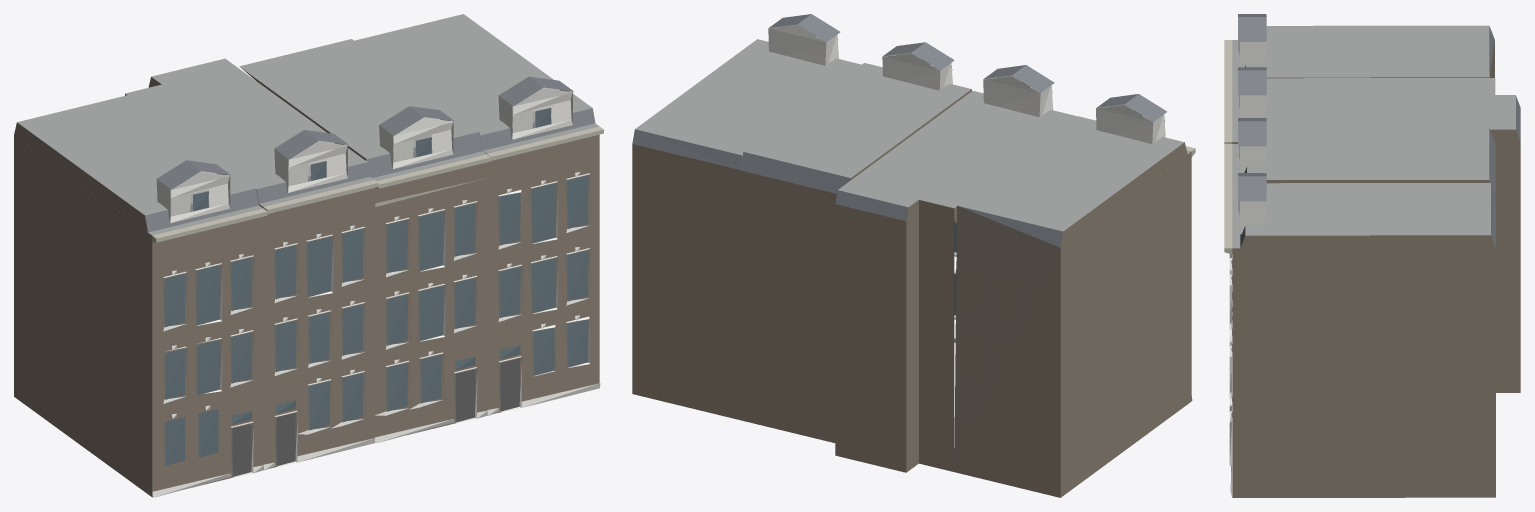
Rendered from chunk-face-tex-1-59-r2.lod2.glb.
3 views of the same model, side by side, from view 1: azimuth 30°, elevation 25°; view 2: azimuth 150°, elevation 25°; view 3: azimuth 270°, elevation 25° (orthographic). The views are drawn at different scales.
Visible parts, largest first — view 1: lod2; view 2: lod2; view 3: lod2.
Part boxes in pixels (x1,y1,x2,y2): lod2: (14,14,603,497); lod2: (632,14,1195,497); lod2: (1224,14,1520,497).
Bounding box in the file's own units: 24.56 × 16.39 × 14.75.
